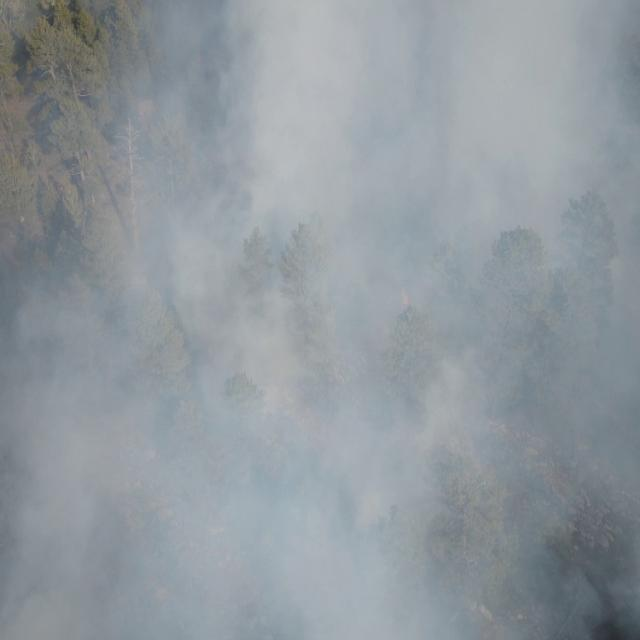fire: (400, 288, 409, 308)
smoke: (0, 0, 640, 640)
